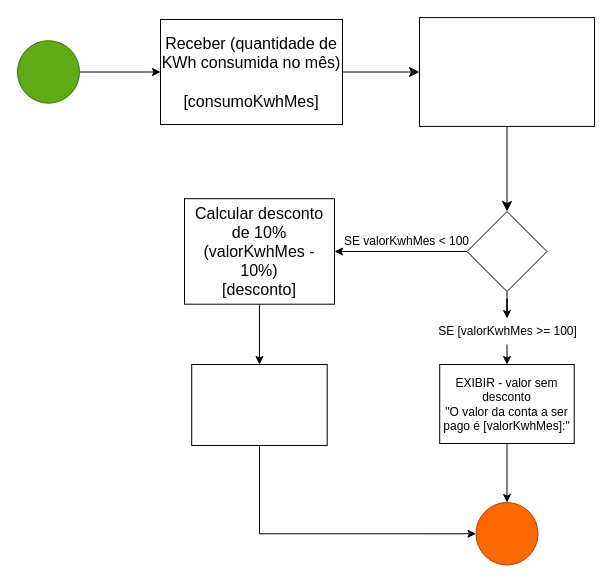
Some shapes in this 612 by 583 pixel diagram are drawn without their labels. Each missing label, with the box of its shape:
Calcular (consumoKwhMes* 0.85) [valorKwhMes]: (418, 17, 594, 126)
EXIBIR - valor com desconto ("O valor da conta a ser pago é [desconto]:"): (191, 364, 327, 446)
